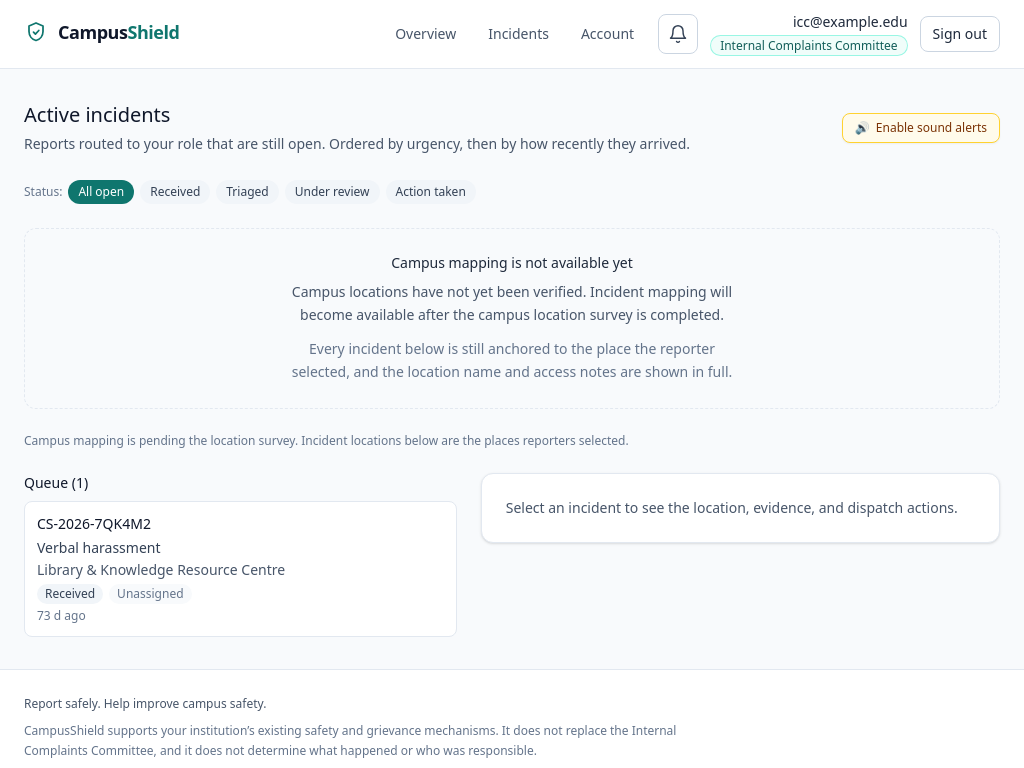
Test: IncidentsPage — incident detail › disables navigation when there is no coordinate rather than inventing one
Click the button "CS-2026-7QK4M2" at (240, 569), box [24, 501, 457, 637]
(page scrolled)
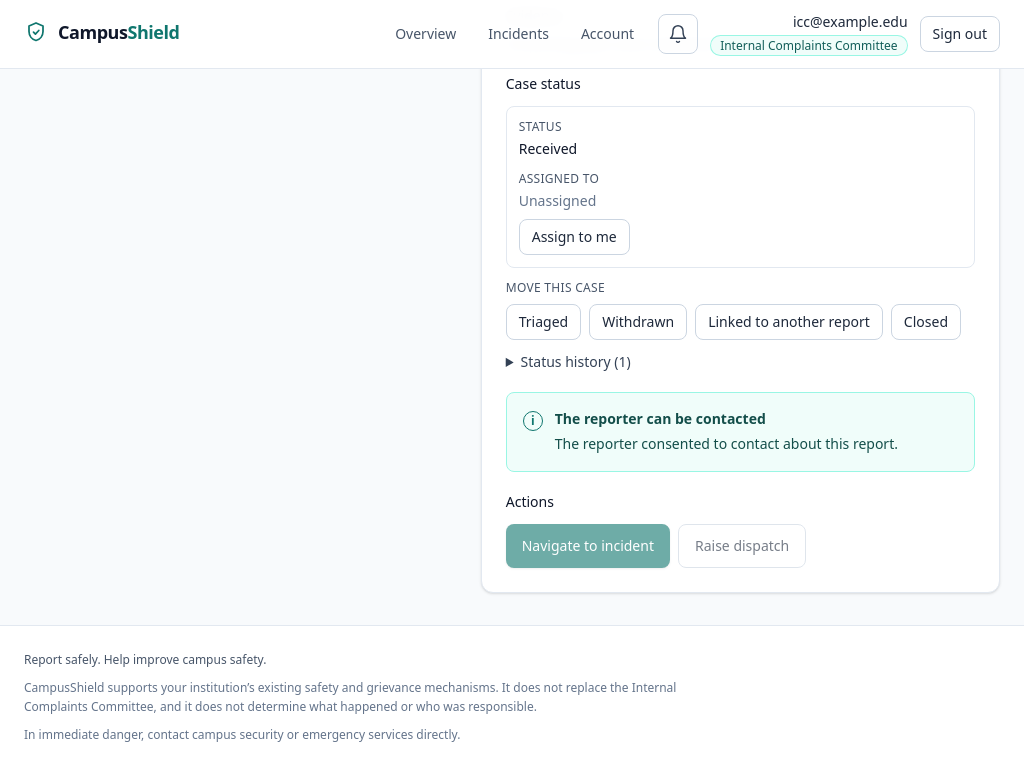
Check: the button "Navigate to incident" is disabled, box [506, 524, 670, 568]
